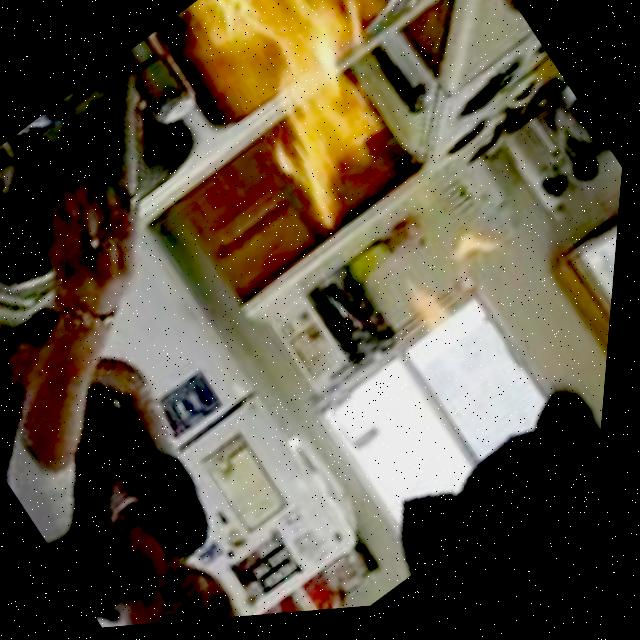Fire: (153, 0, 465, 259), (376, 211, 536, 362)
